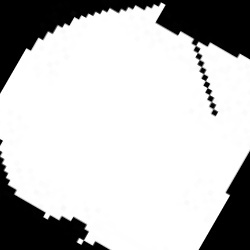spot: (1, 3, 248, 248)
